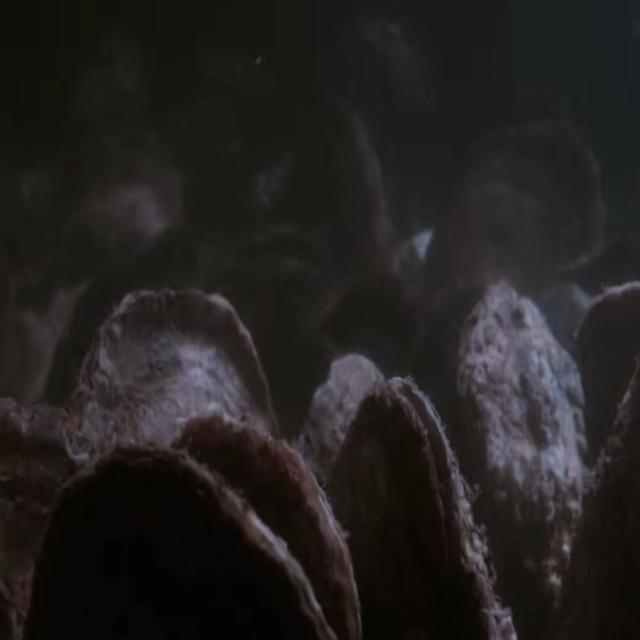Oyster-Closed: (27, 443, 336, 640), (170, 409, 360, 640), (0, 396, 96, 640)
Oyster-Indeterminate: (65, 286, 280, 640), (450, 280, 592, 640), (420, 119, 606, 347), (295, 351, 385, 640), (284, 90, 398, 295), (58, 145, 186, 279), (570, 281, 640, 505)
Oyster-Open: (326, 374, 516, 640), (212, 218, 340, 345)
